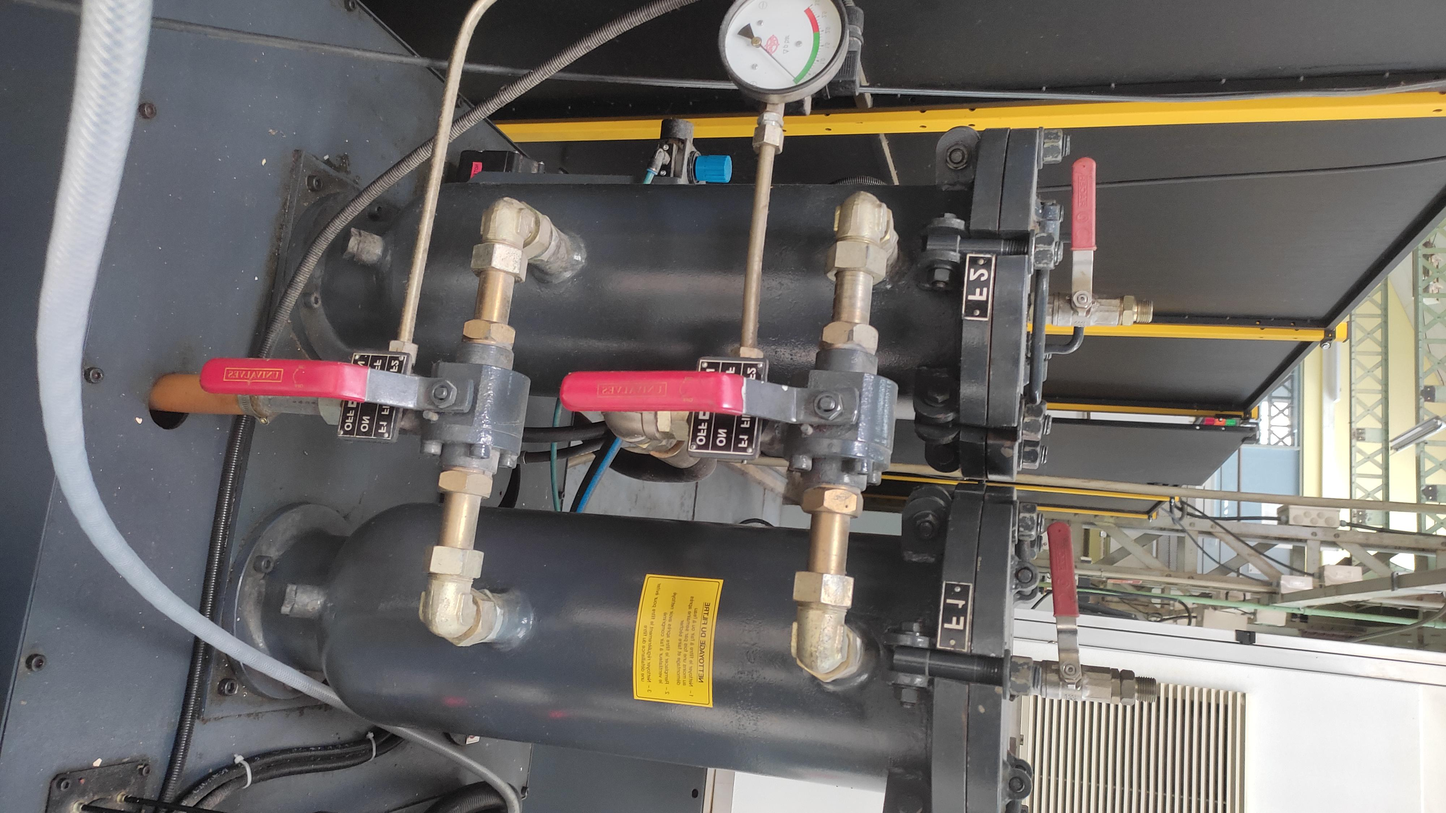closed valve: (557, 322, 897, 520), (202, 317, 537, 503), (1034, 518, 1127, 704), (1050, 155, 1134, 339)
